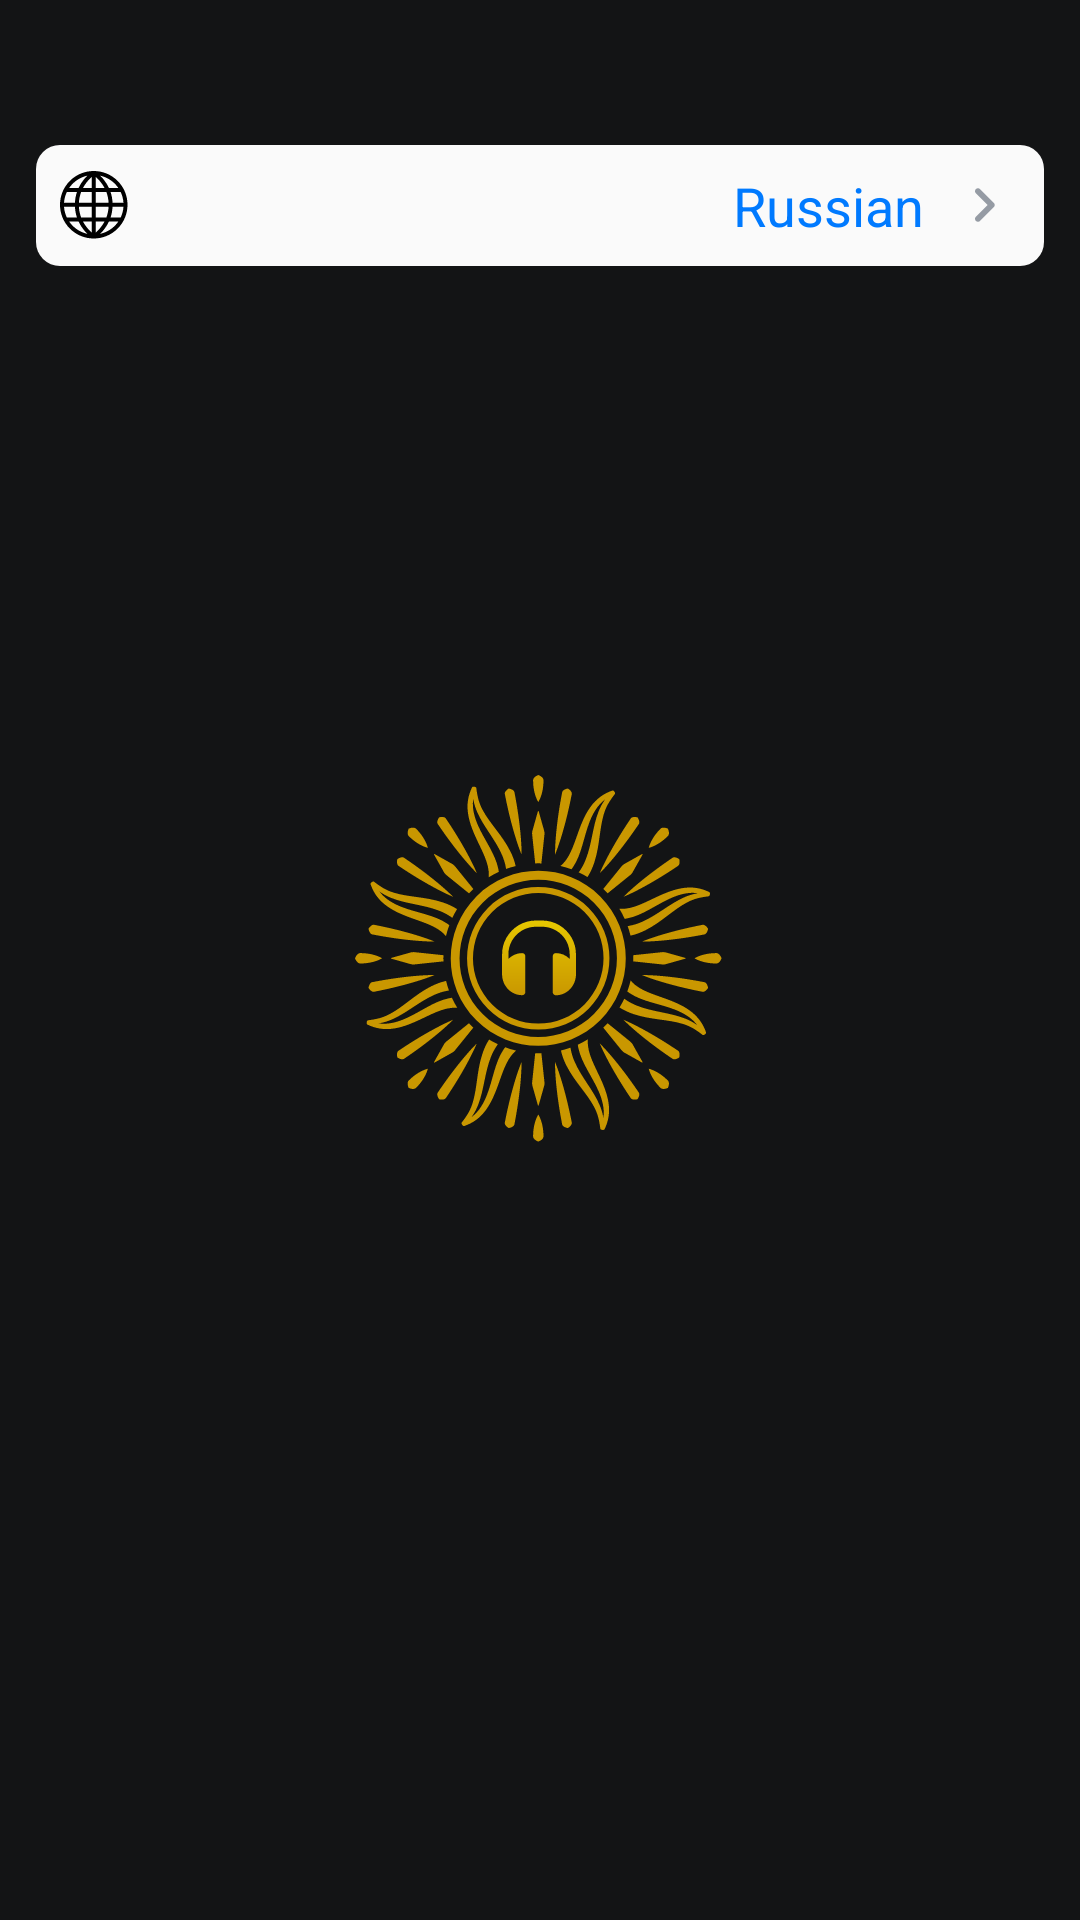

Screen size 1080 x 1920. Icon name, then its center in pixels as [x,y]:
arrow right: [985,205]
language selection: [94,205]
